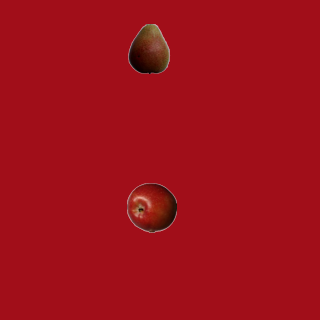Apple Braeburn: (126, 182, 176, 232)
Pear Forelle: (123, 23, 173, 73)
